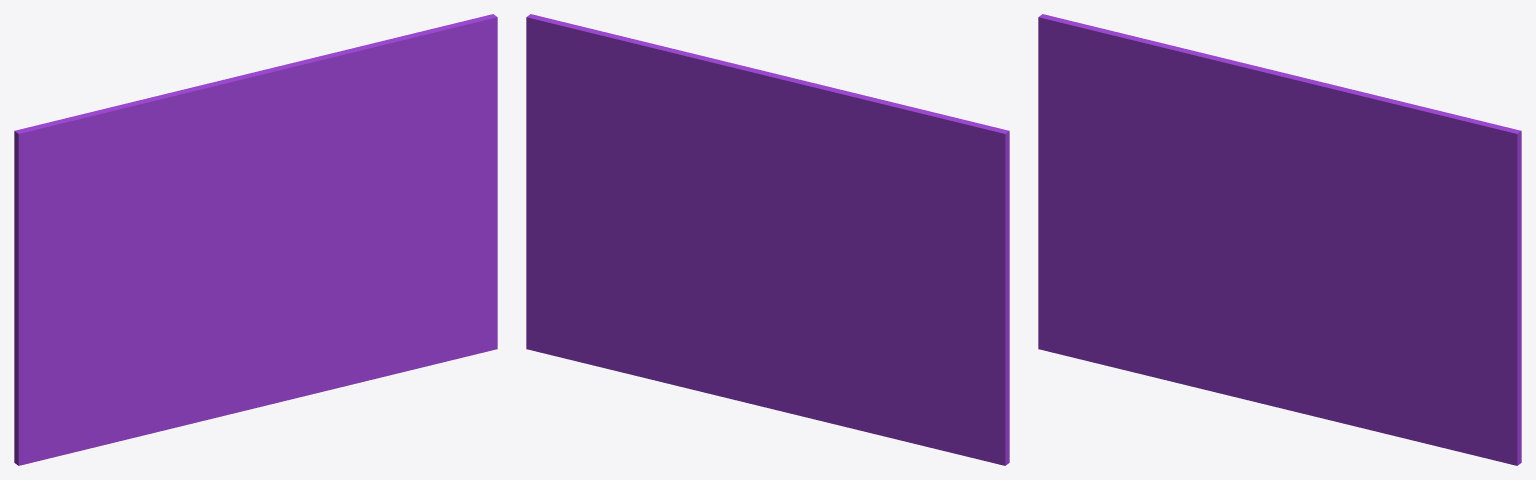
Rendered from Glass_7_chunks.fbx.
3 views of the same model, side by side, from view 1: azimuth 30°, elevation 25°; view 2: azimuth 150°, elevation 25°; view 3: azimuth 330°, elevation 25° (orthographic).
Visible parts, largest first — view 1: Glass_7_2, Glass_7_3, Glass_7_1; view 2: Glass_7_2, Glass_7_3, Glass_7_1; view 3: Glass_7_2, Glass_7_3, Glass_7_1.
Part boxes in pixels (x1,y1,x2,y2): Glass_7_2: (14,88,259,465); Glass_7_3: (188,14,497,241); Glass_7_1: (124,223,497,440); Glass_7_2: (775,88,1009,465); Glass_7_3: (526,14,832,241); Glass_7_1: (526,223,902,440); Glass_7_2: (1038,14,1278,374); Glass_7_3: (1214,56,1521,339); Glass_7_1: (1144,242,1521,465).
Bounding box in the file's own units: 1728 × 1144 × 27.2.
